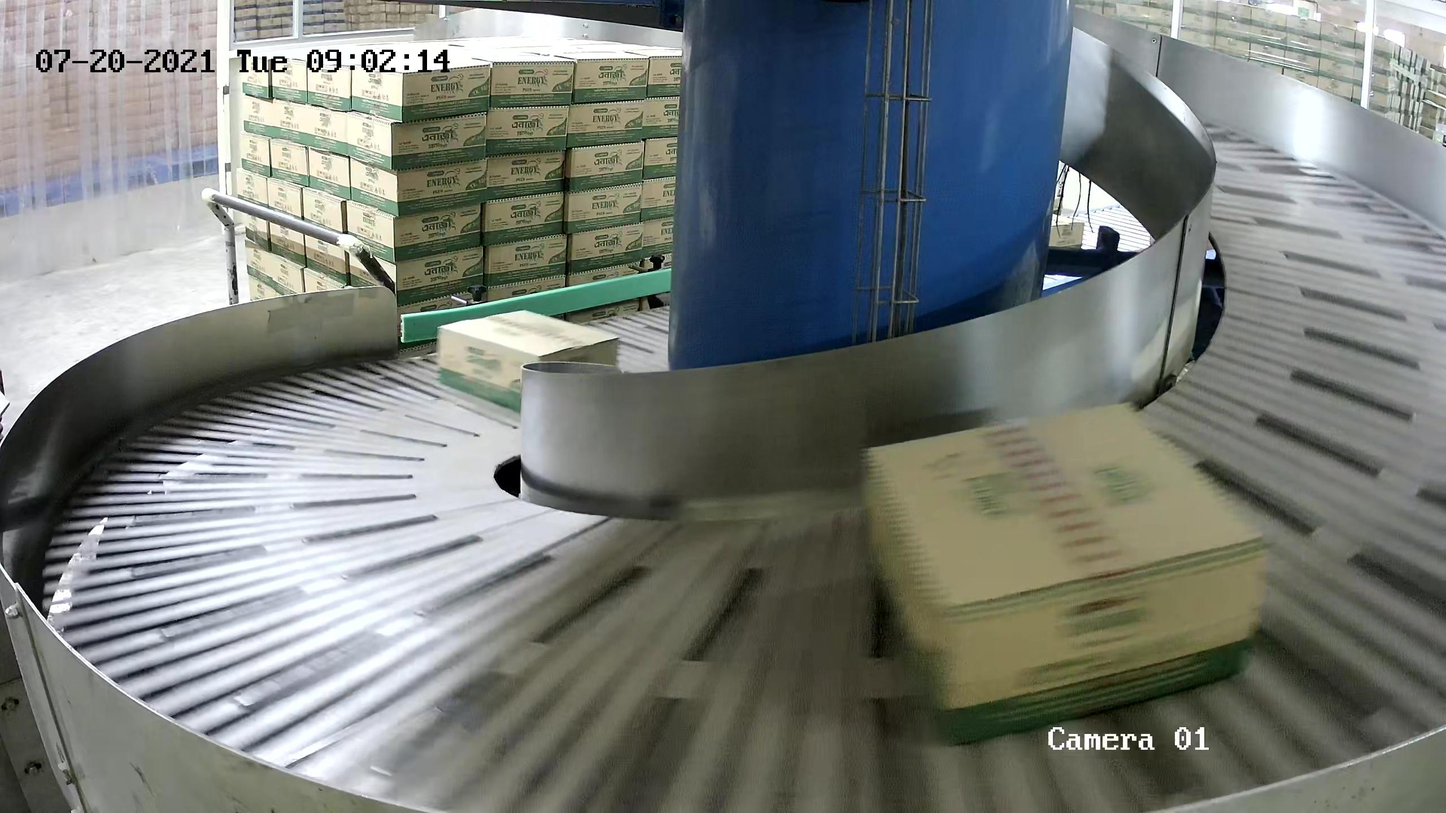Box: (858, 394, 1274, 750), (436, 306, 623, 416)
